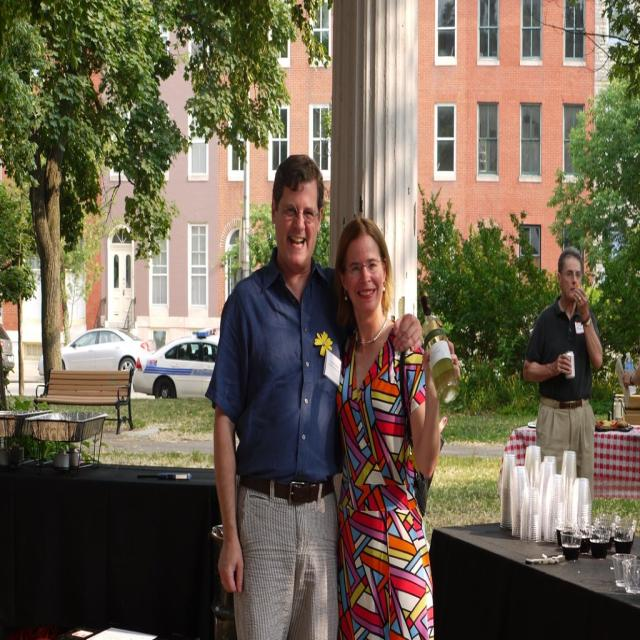car: (122, 336, 221, 411)
